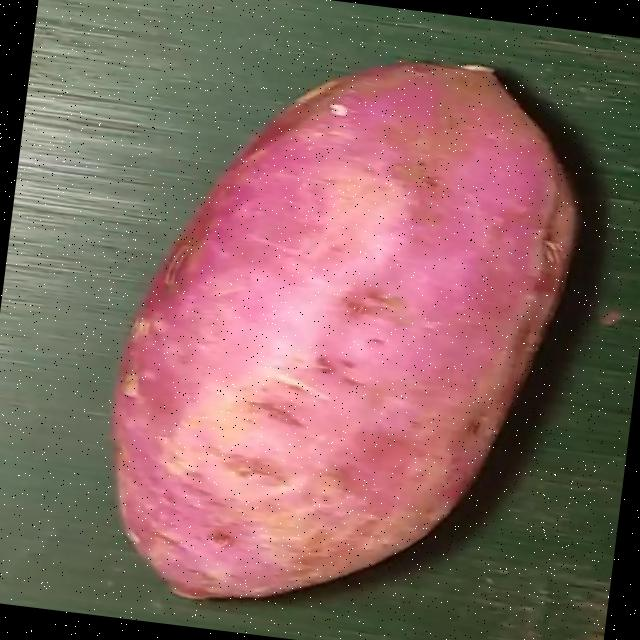Sweet Potato: (109, 56, 579, 599)
